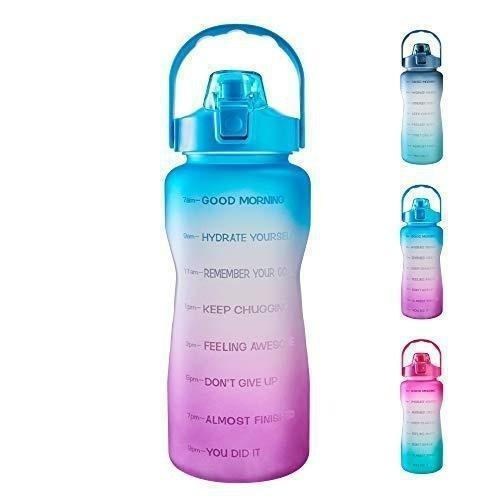gym bottle: (159, 18, 317, 490), (397, 26, 449, 164), (395, 183, 447, 321), (395, 338, 447, 476)
